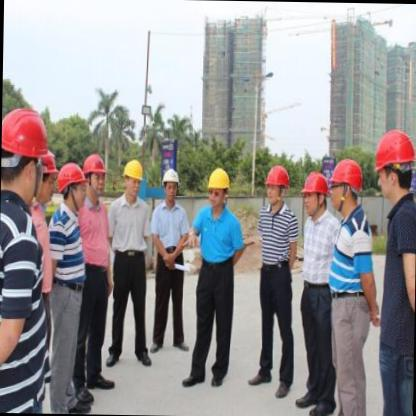helmet: (0, 106, 50, 199), (371, 128, 416, 204), (328, 157, 362, 216), (33, 148, 58, 210), (58, 164, 86, 214), (204, 165, 232, 212), (300, 170, 328, 216), (262, 164, 292, 206), (120, 156, 147, 198), (83, 150, 107, 197), (160, 160, 182, 203)
